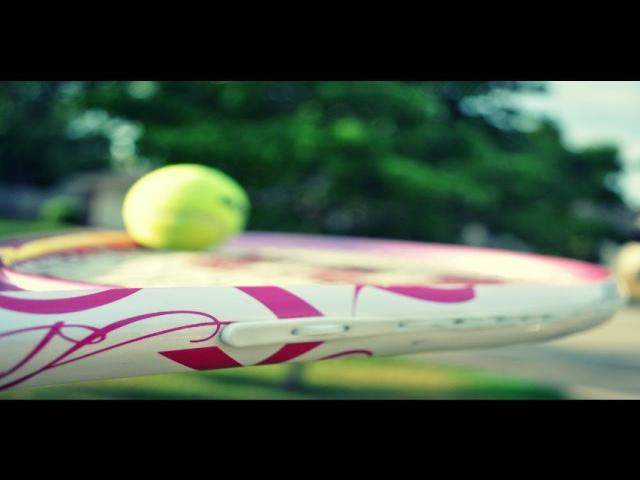tennis-ball: (122, 164, 250, 252)
